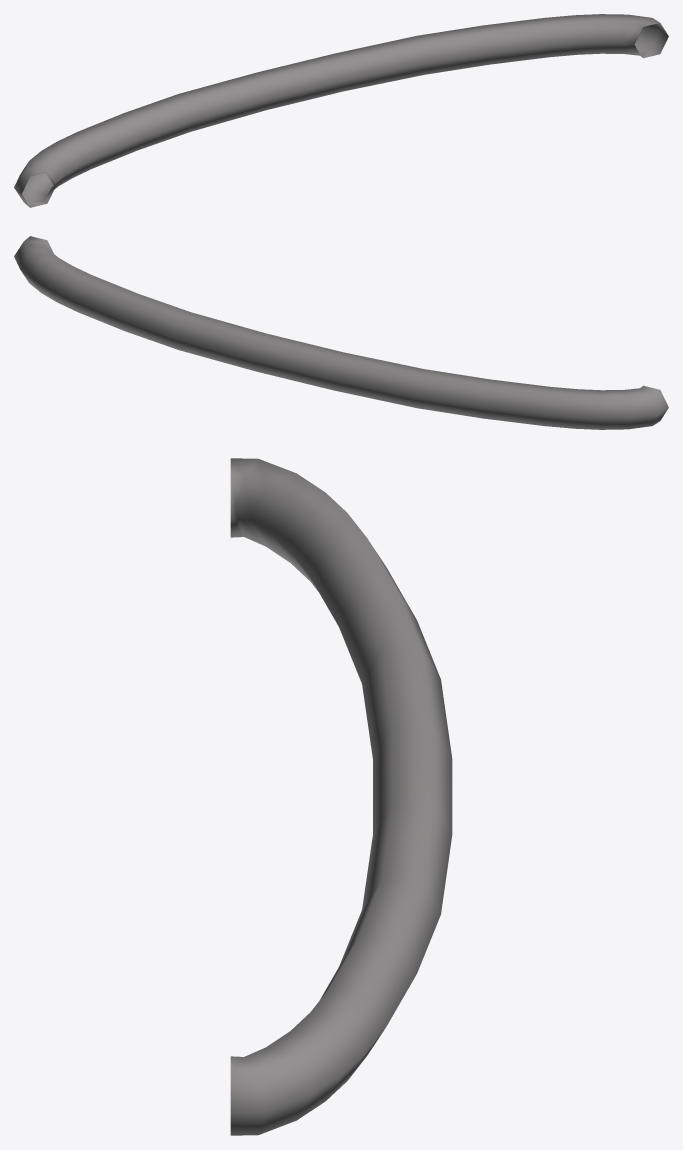
The model's file is Car_02_RearBumper_Simple.fbx.
3 renders of one model, top to bottom at view 1: azimuth 30°, elevation 25°; view 2: azimuth 150°, elevation 25°; view 3: azimuth 270°, elevation 25°, orthographic. The views are drawn at different scales.
Visible parts, largest first — view 1: Car_02_RearBumper_Simple; view 2: Car_02_RearBumper_Simple; view 3: Car_02_RearBumper_Simple.
Part boxes in pixels (x1=…): Car_02_RearBumper_Simple: x1=14, y1=14, x2=668, y2=207; Car_02_RearBumper_Simple: x1=14, y1=236, x2=668, y2=429; Car_02_RearBumper_Simple: x1=230, y1=458, x2=452, y2=1135.
Size of the model in its own units: 165 by 24.5 by 7.62.
